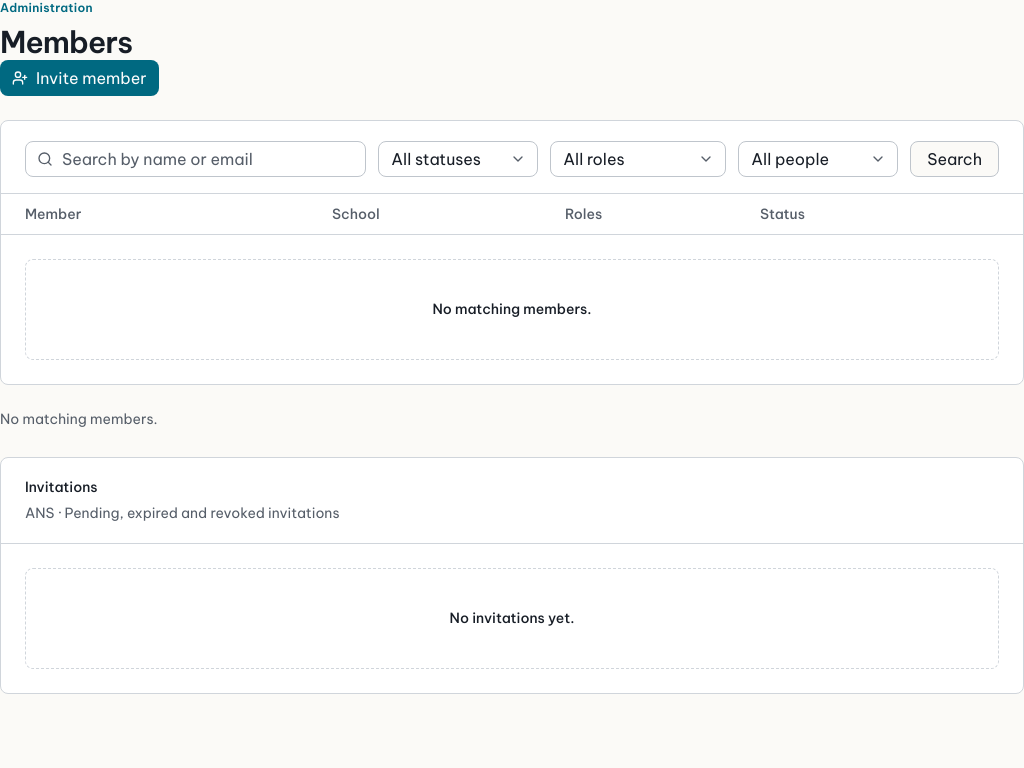
Scenario: MembersDirectory › keeps invitation input after a failed creation request
Click the button "Invite member" at (79, 78), box [0, 60, 159, 96]
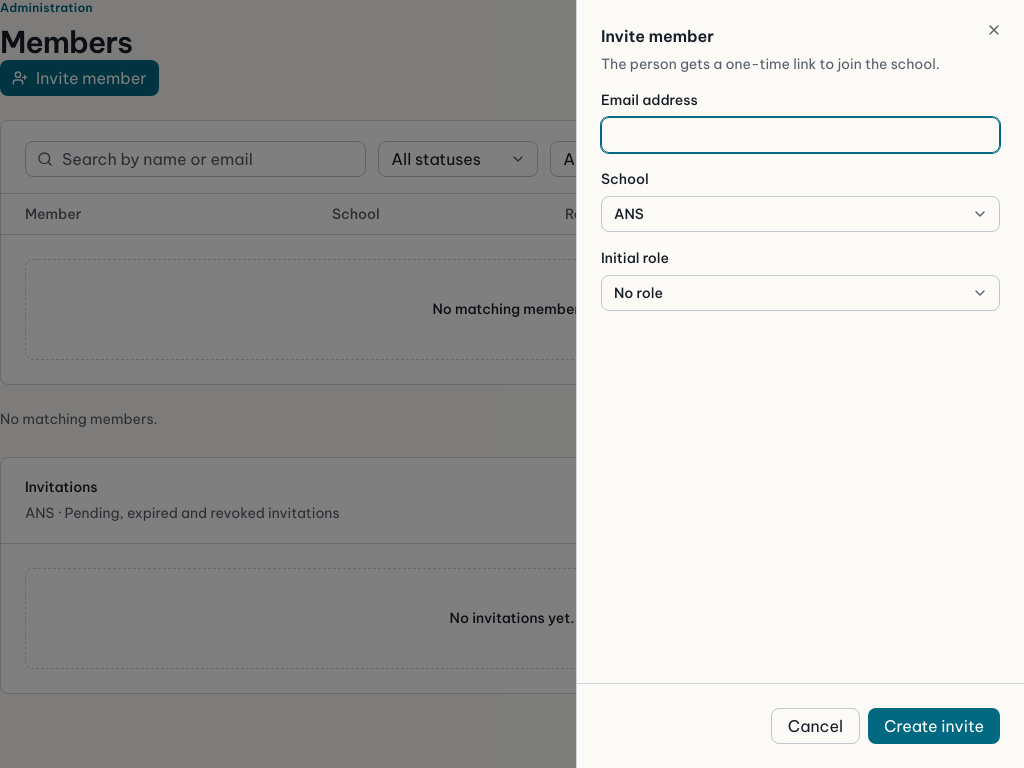
Type "retry@example.com" into the field labelled "Email address" at (800, 135), box [601, 117, 1000, 153]
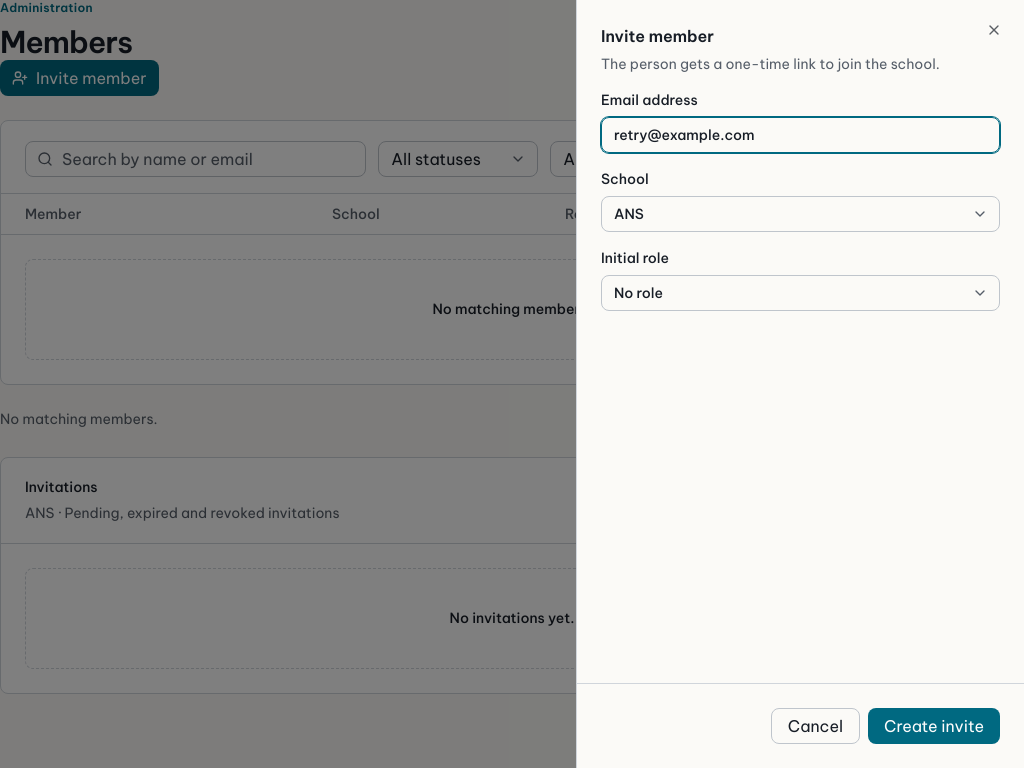
Click the button "Create invite" at (934, 726), box [868, 708, 1000, 744]
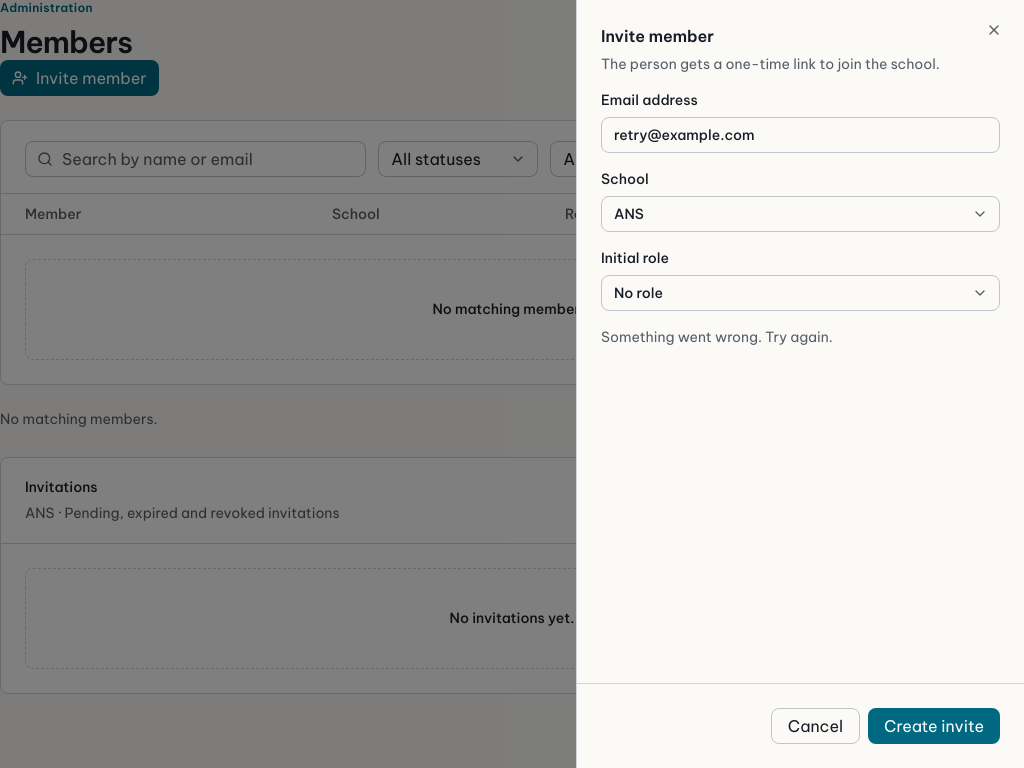
Result: the text "Something went wrong. Try again." is shown at [601, 328, 833, 346]
